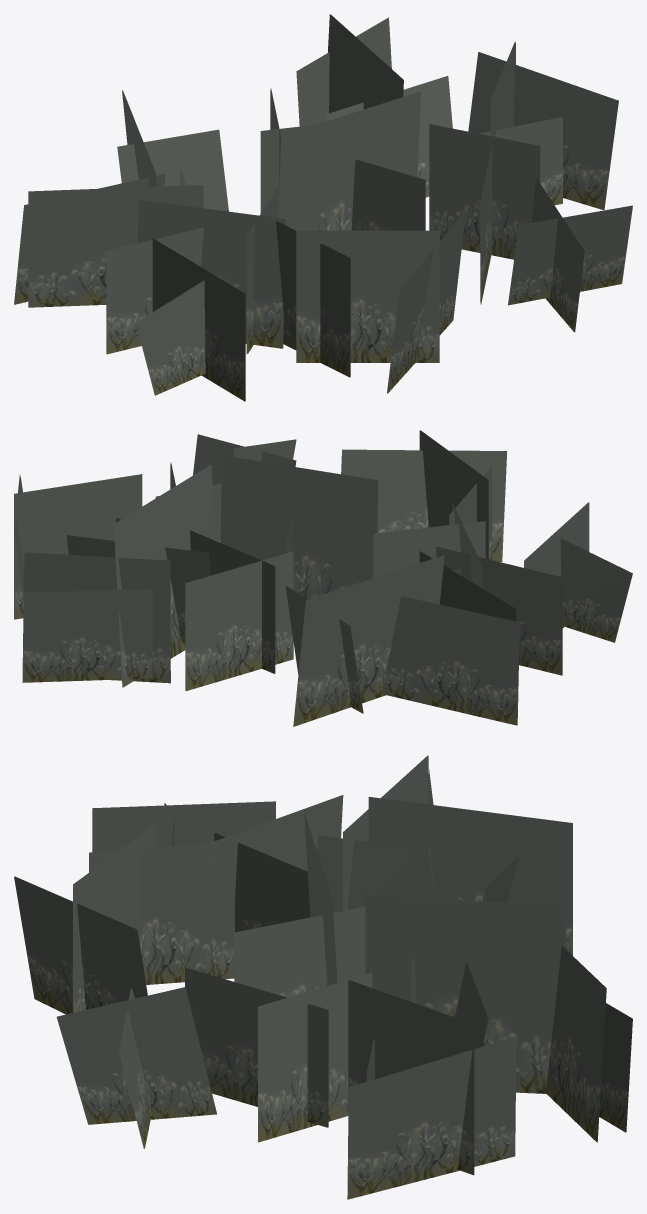
Rendered from DN_grass07c.FBX.
3 views of the same model, one above another, from view 1: azimuth 30°, elevation 25°; view 2: azimuth 150°, elevation 25°; view 3: azimuth 270°, elevation 25° (orthographic). The views are drawn at different scales.
Parts seen in each view (by area): view 1: DN_grass07c; view 2: DN_grass07c; view 3: DN_grass07c.
Part boxes in pixels (left/top/right/bottom): DN_grass07c: left=14, top=14, right=632, bottom=401; DN_grass07c: left=14, top=430, right=632, bottom=726; DN_grass07c: left=14, top=755, right=632, bottom=1199.
Bounding box in the file's own units: 194 × 58.05 × 162.
